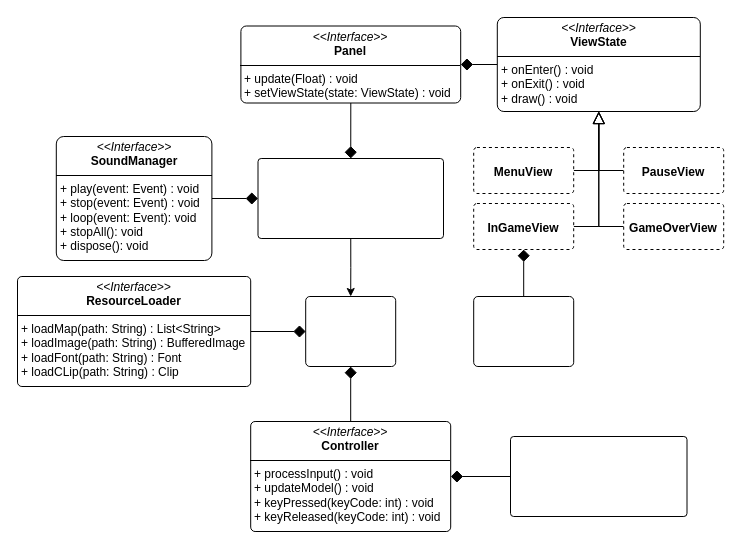
Some shapes in this 742 by 549 pixel diagram are drawn without their labels. The centre of each missing label's shape, as x and y in pixels:
"<<Interface>> Engine + run() : void" goes at pixel 350 331.
"<<Interface>> Model + close() : void + update(deltaTime: float) : void" goes at pixel 598 476.
"<<Interface>> RenderManager + render() : void" goes at pixel 523 331.
"<<Interface>> View + close() : void + update(deltaTime: float) : void" goes at pixel 350 198.
